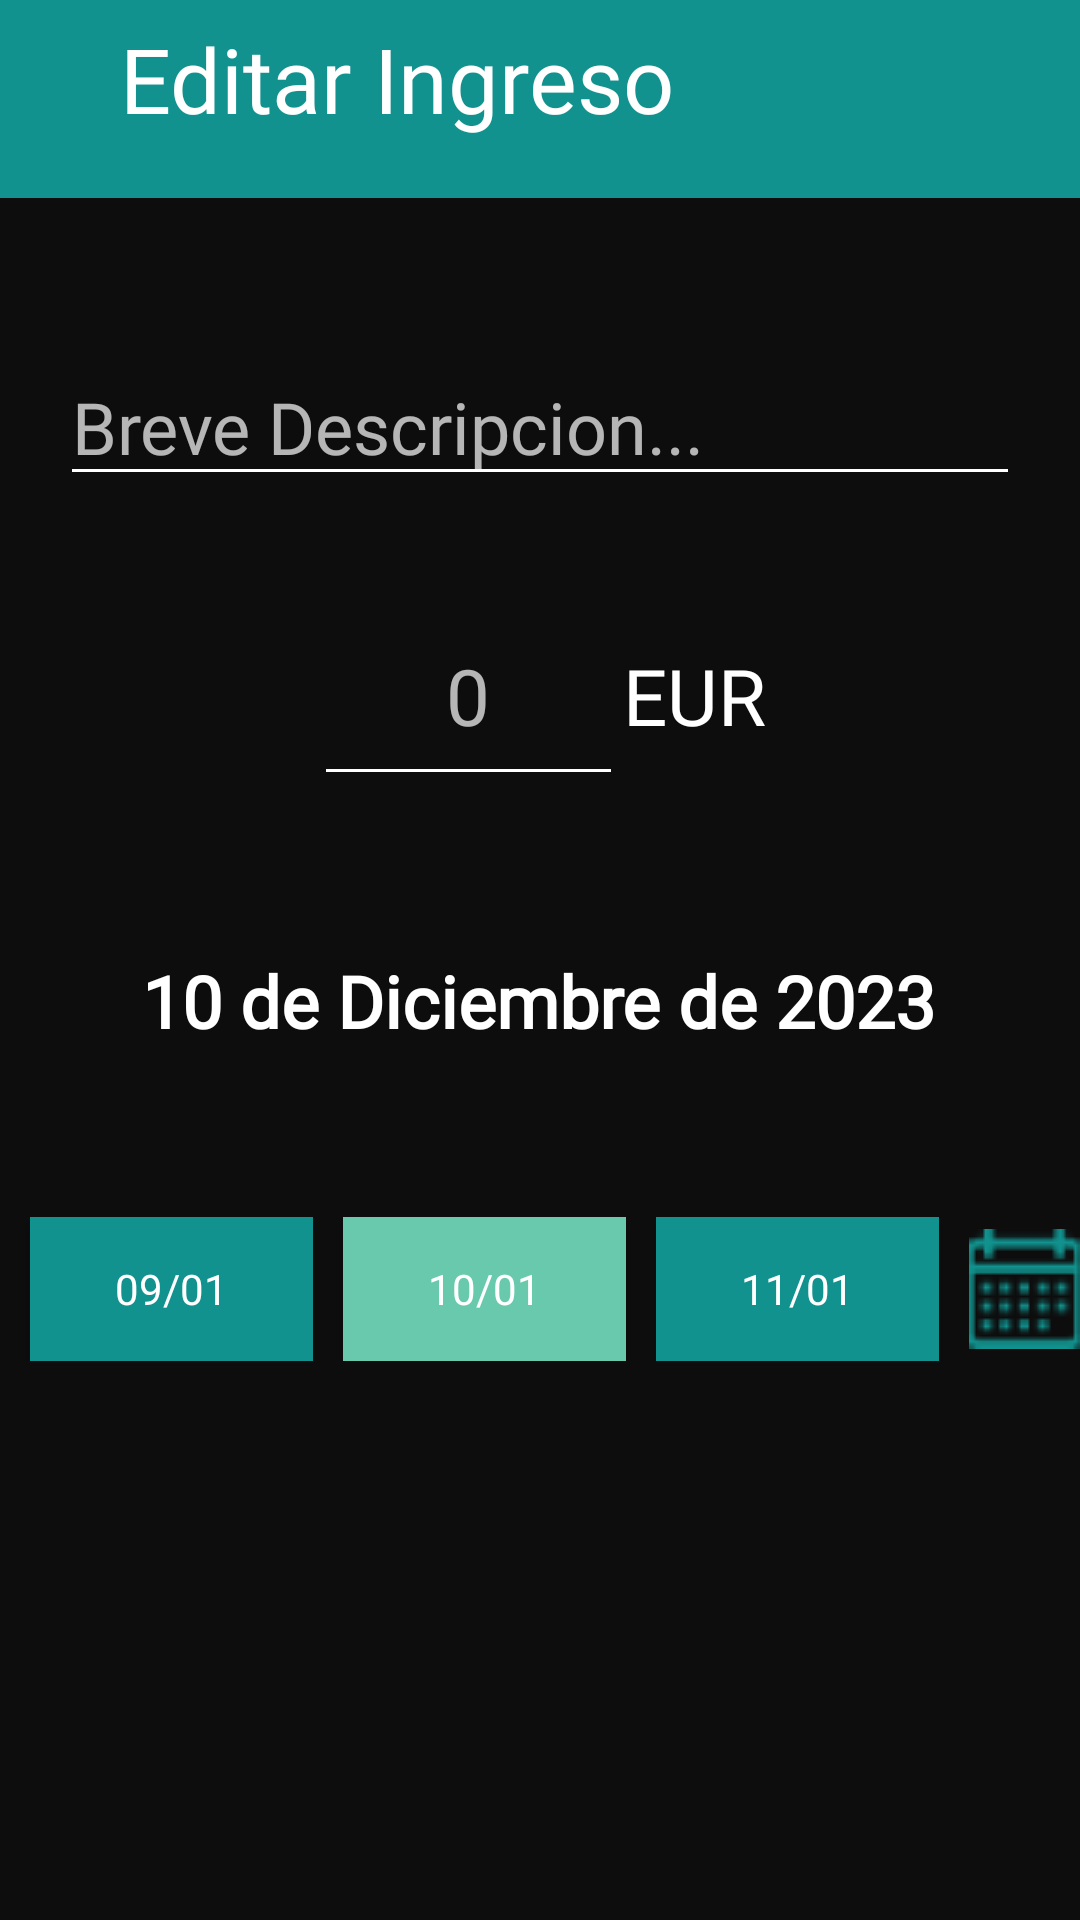

Named icons in this screenshot (1080px x 1920px) and their bounding boxes, (x1, y1, x2, y2):
calendar: (969, 1229, 1080, 1349)
